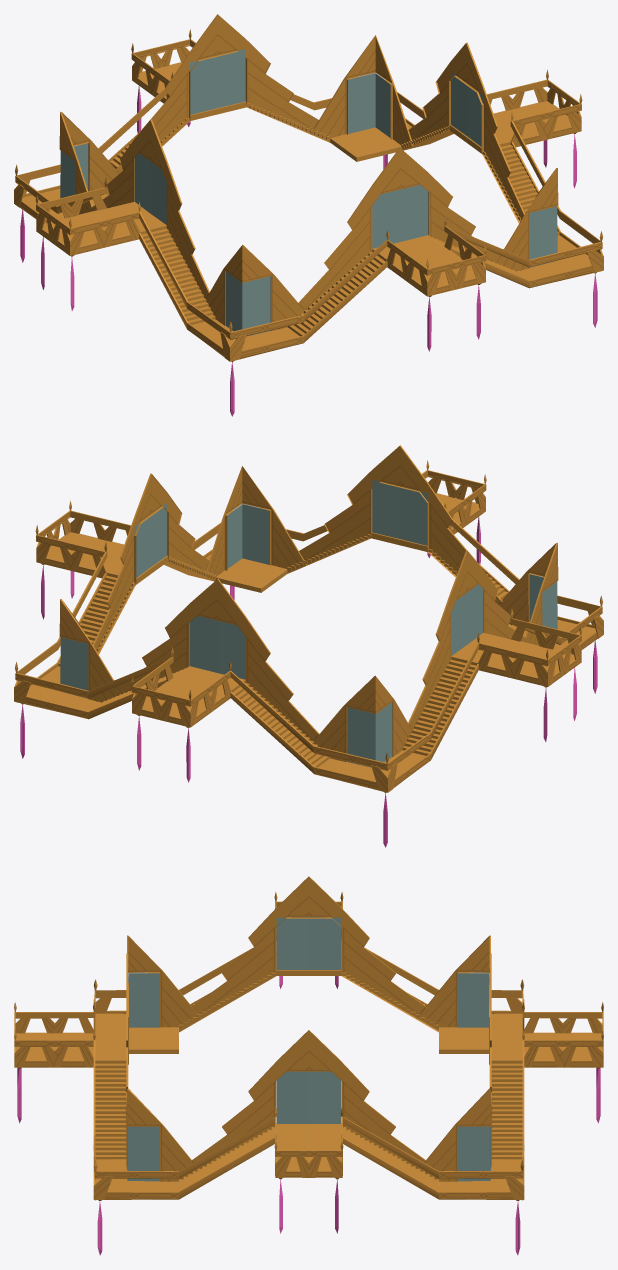
The model's file is ModularBuilding_Four.fbx.
3 renders of one model, top to bottom at view 1: azimuth 30°, elevation 25°; view 2: azimuth 150°, elevation 25°; view 3: azimuth 270°, elevation 25°, orthographic.
Visible parts, largest first — view 1: ModularBuilding_Four; view 2: ModularBuilding_Four; view 3: ModularBuilding_Four.
Part boxes in pixels (bbox=[...]): ModularBuilding_Four: bbox=[14, 14, 603, 416]; ModularBuilding_Four: bbox=[14, 445, 603, 847]; ModularBuilding_Four: bbox=[14, 876, 603, 1255].
Bounding box in the file's own units: 3496 × 1401 × 3496.
